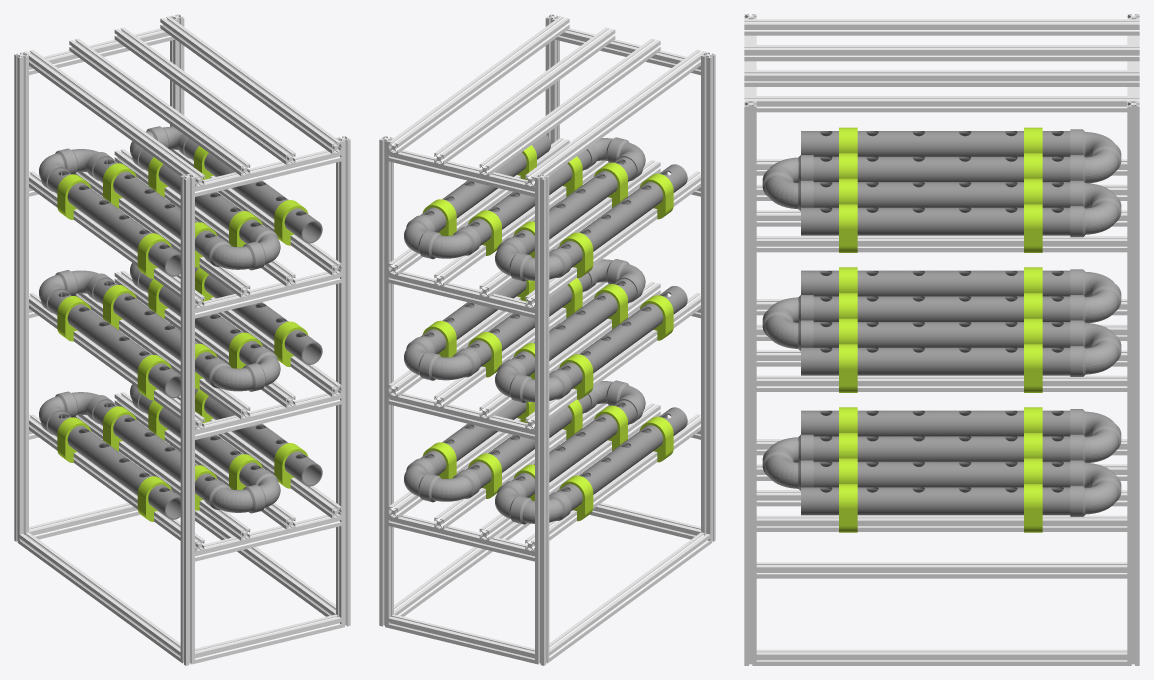
File: assembly5.glb
3 views of the same model, side by side, from view 1: azimuth 30°, elevation 25°; view 2: azimuth 150°, elevation 25°; view 3: azimuth 270°, elevation 25° (orthographic). The views are drawn at different scales.
Visible parts, largest first — view 1: Node1, Node2, Node3, Node5, Node4; view 2: Node1, Node2, Node3, Node4, Node5; view 3: Node2, Node3, Node1, Node4, Node5.
Boxes of the visible parts, x1=… form: Node1: x1=14, y1=14, x2=350, y2=665; Node2: x1=48, y1=138, x2=322, y2=519; Node3: x1=19, y1=16, x2=341, y2=661; Node5: x1=57, y1=146, x2=308, y2=521; Node4: x1=39, y1=126, x2=280, y2=513; Node1: x1=379, y1=14, x2=715, y2=665; Node2: x1=420, y1=134, x2=687, y2=510; Node3: x1=388, y1=16, x2=710, y2=661; Node4: x1=404, y1=137, x2=645, y2=524; Node5: x1=422, y1=145, x2=673, y2=521; Node2: x1=801, y1=131, x2=1070, y2=515; Node3: x1=744, y1=35, x2=1139, y2=665; Node1: x1=744, y1=14, x2=1139, y2=665; Node4: x1=762, y1=129, x2=1121, y2=516; Node5: x1=839, y1=127, x2=1042, y2=532.
Bounding box in the file's own units: 710 × 2000 × 1280.
